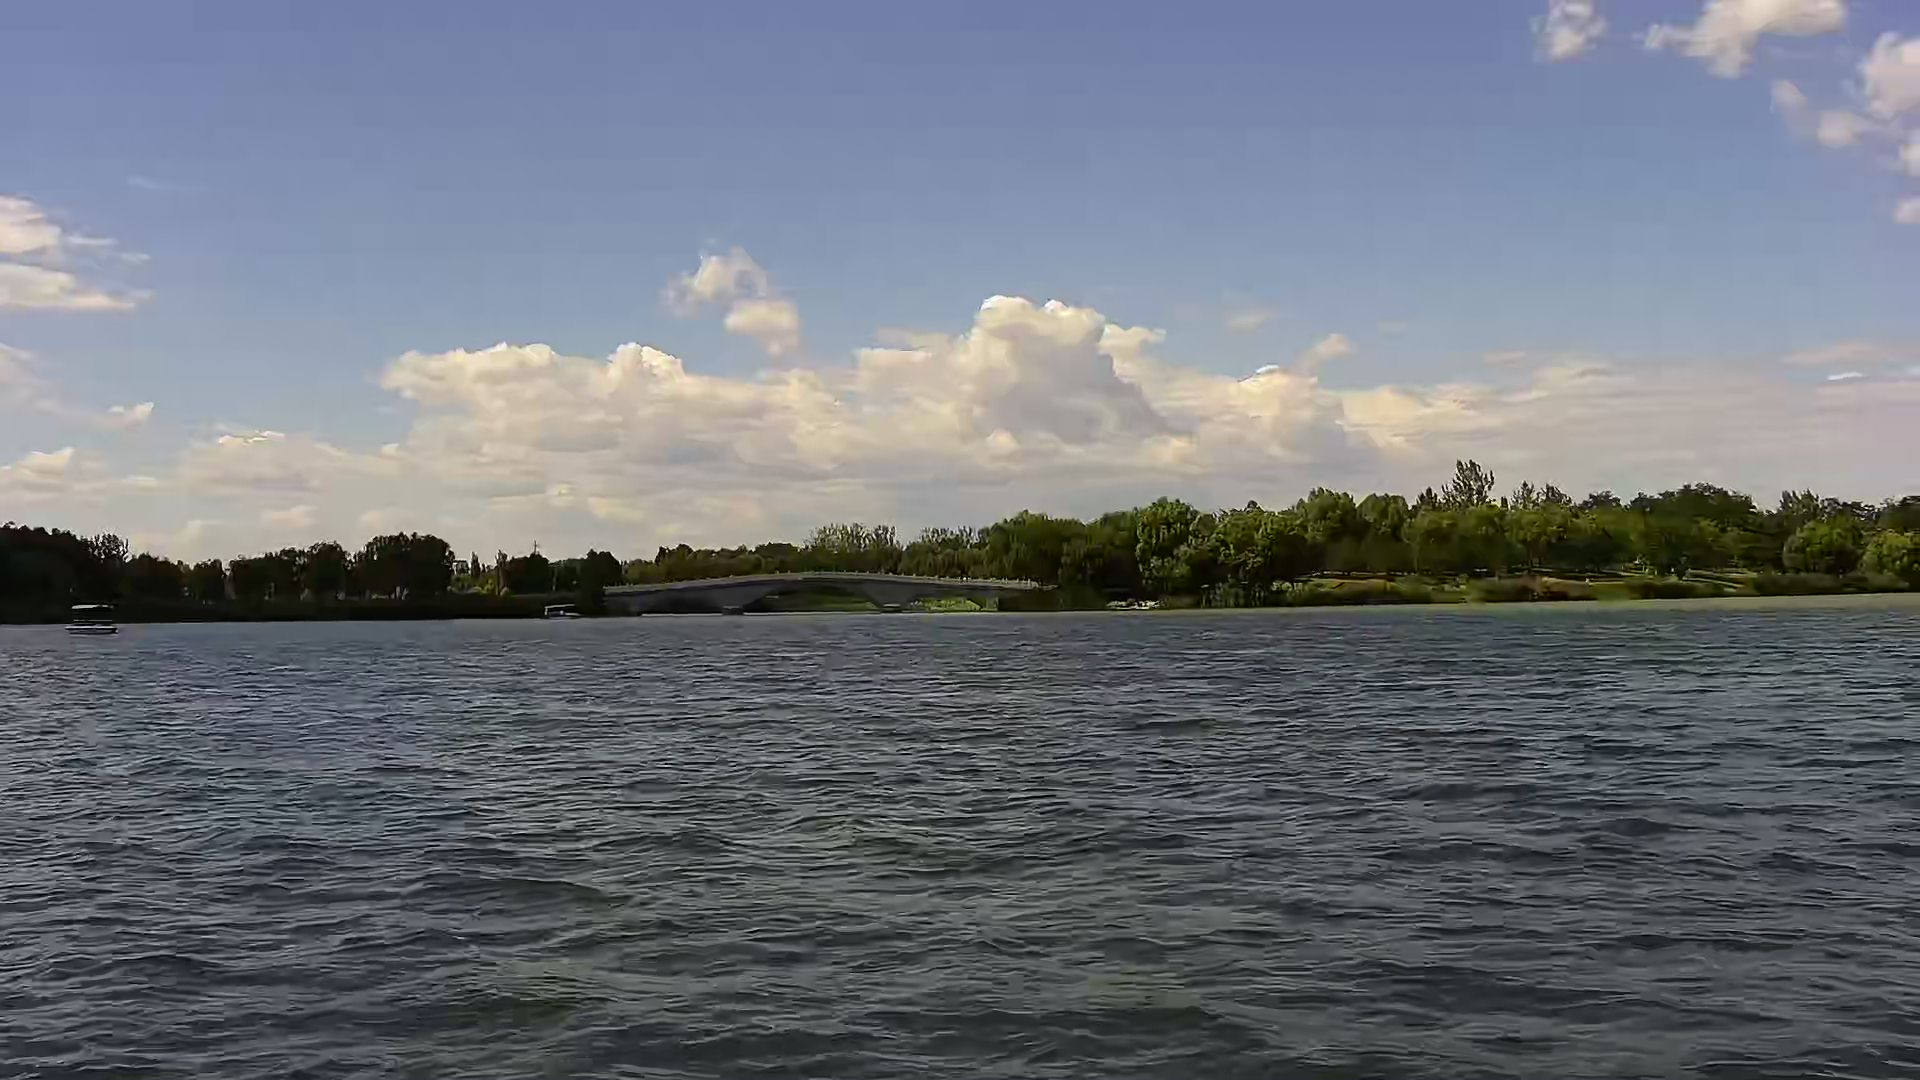boat: (65, 595, 125, 641)
bridge: (597, 568, 1043, 618)
